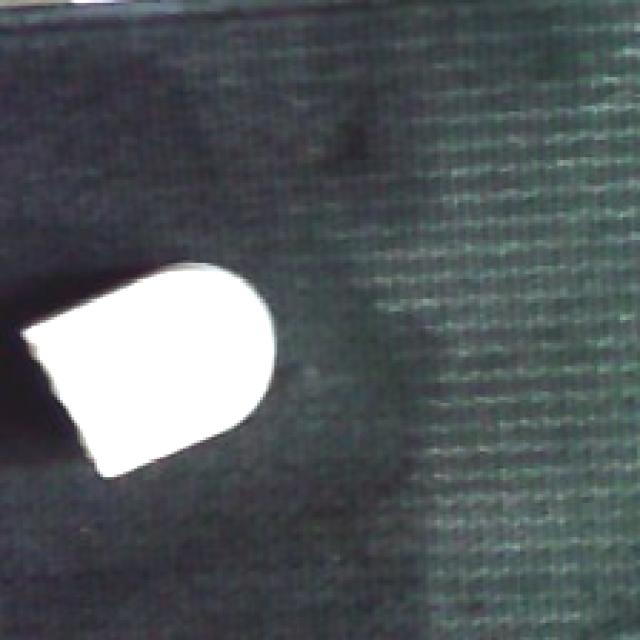defected: (14, 254, 283, 483)
